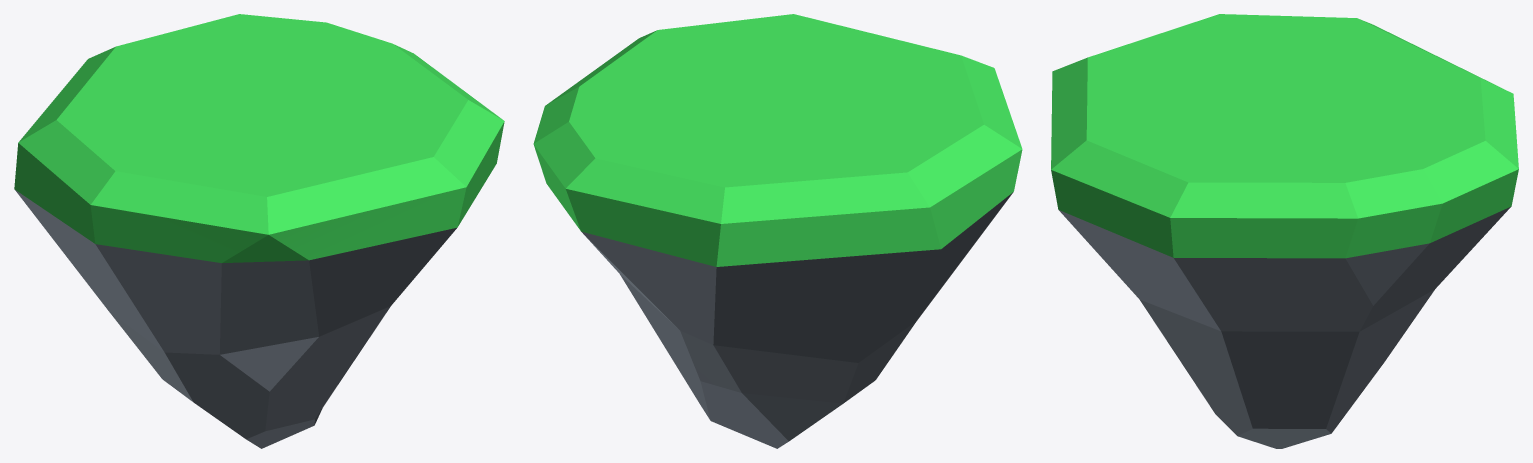
Rendered from testmodelsisland_Island_002__1_.fbx.
3 renders of one model, left to right at view 1: azimuth 30°, elevation 25°; view 2: azimuth 150°, elevation 25°; view 3: azimuth 270°, elevation 25°, orthographic. The views are drawn at different scales.
Parts seen in each view (by area): view 1: island_Island_002__1_; view 2: island_Island_002__1_; view 3: island_Island_002__1_.
Boxes of the visible parts, box(x1,y1,x2,y2) form: island_Island_002__1_: box(14, 14, 504, 448); island_Island_002__1_: box(533, 14, 1022, 448); island_Island_002__1_: box(1051, 14, 1518, 448).
Size of the model in its own units: 703 by 575 by 700.
